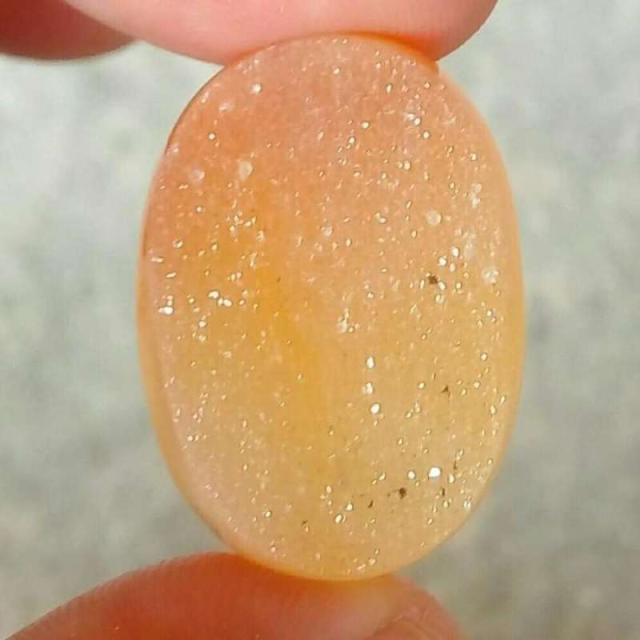Pecahan Agregat: (103, 0, 586, 582)
